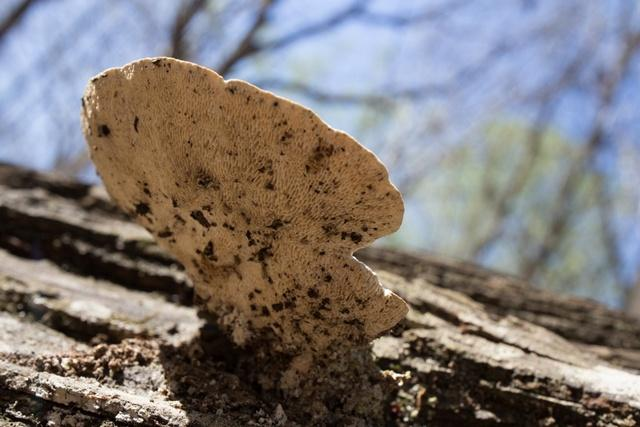poisonous_mushroom: (79, 53, 410, 376)
